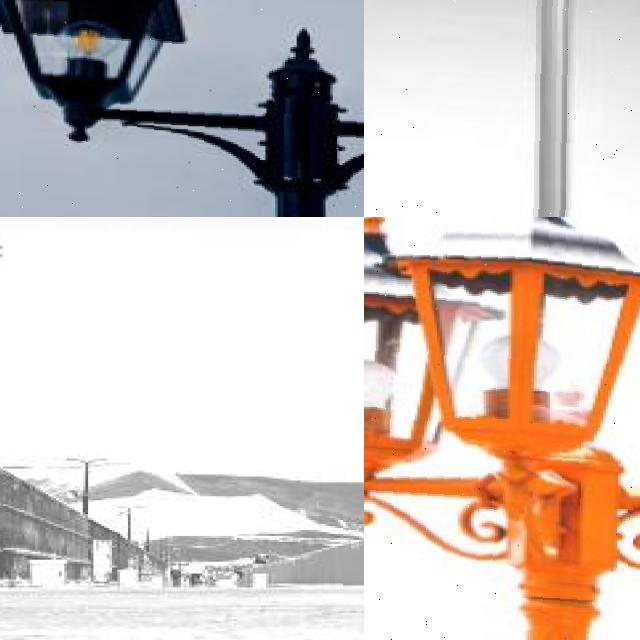street light: (364, 217, 640, 640), (0, 0, 364, 217), (364, 0, 640, 217), (51, 458, 124, 584), (112, 504, 147, 580)
